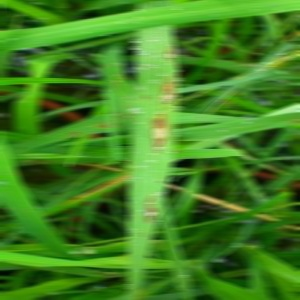Brown_Spot: (147, 74, 177, 110), (147, 108, 170, 148), (136, 195, 161, 231), (154, 39, 180, 71)
